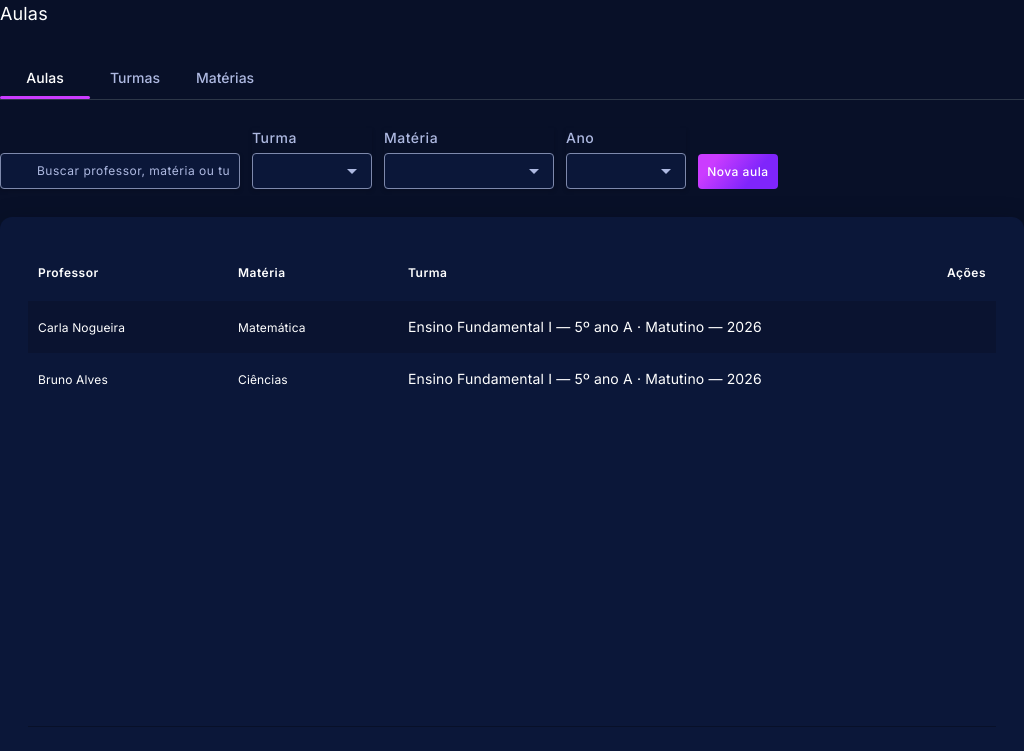
Lessons page › opens the form for a new lesson
This screenshot has width=1024, height=751.
Expected: the text "Carla Nogueira" is shown, [38,320,125,335]
Click the button "Nova aula" at [738, 171], box [698,154,778,189]
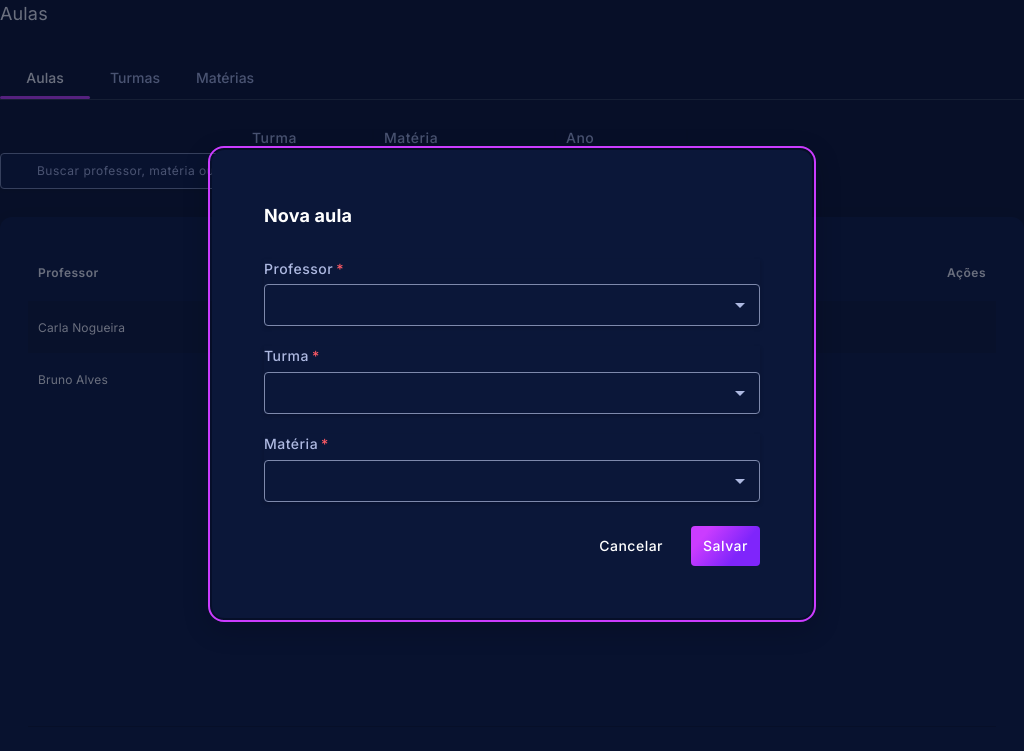
Expected: the dialog is shown, [212,150,812,618]
